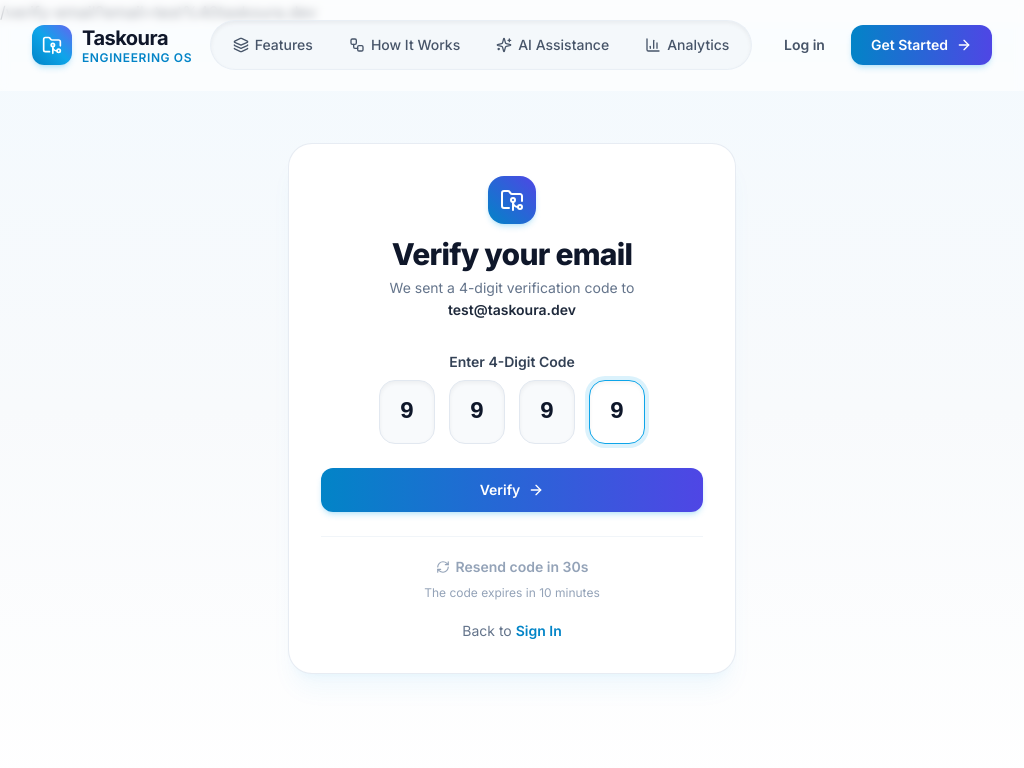
Auth Pages UI & MSW Backend Contract › VerifyEmailPage › on 400: displays error message and clears the OTP boxes
Click the button "Verify" at (512, 490), box [321,468,703,512]
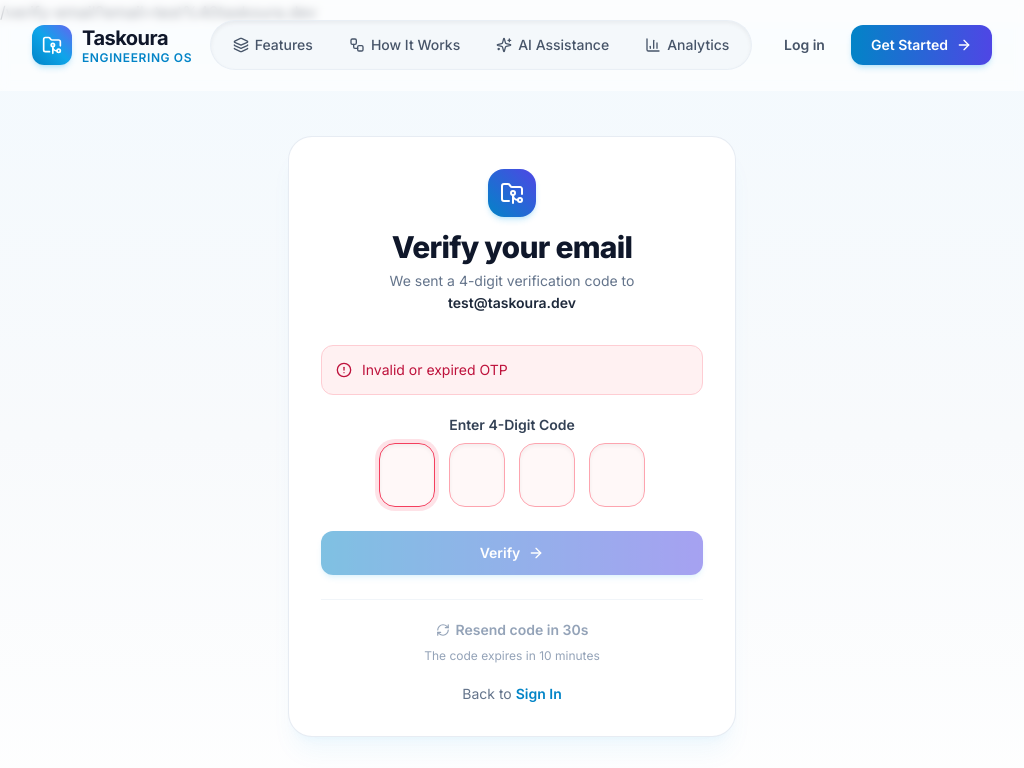
Expected: the text "Invalid or expired OTP" is shown, [362,360,508,380]
Expected: the field named "Digit 1" is empty, [379,443,435,507]
Expected: the field named "Digit 2" is empty, [449,443,505,507]
